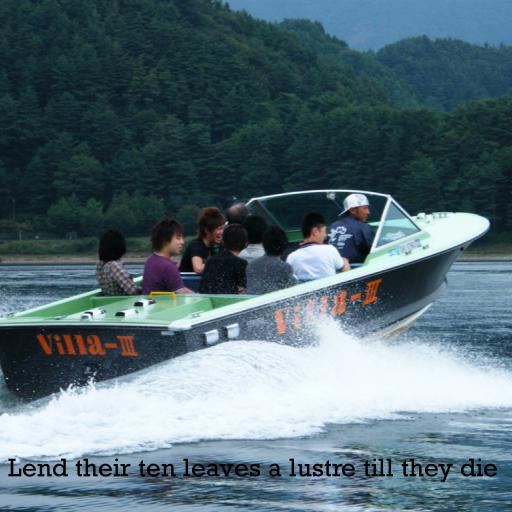Rockwell: (8, 458, 498, 482)
